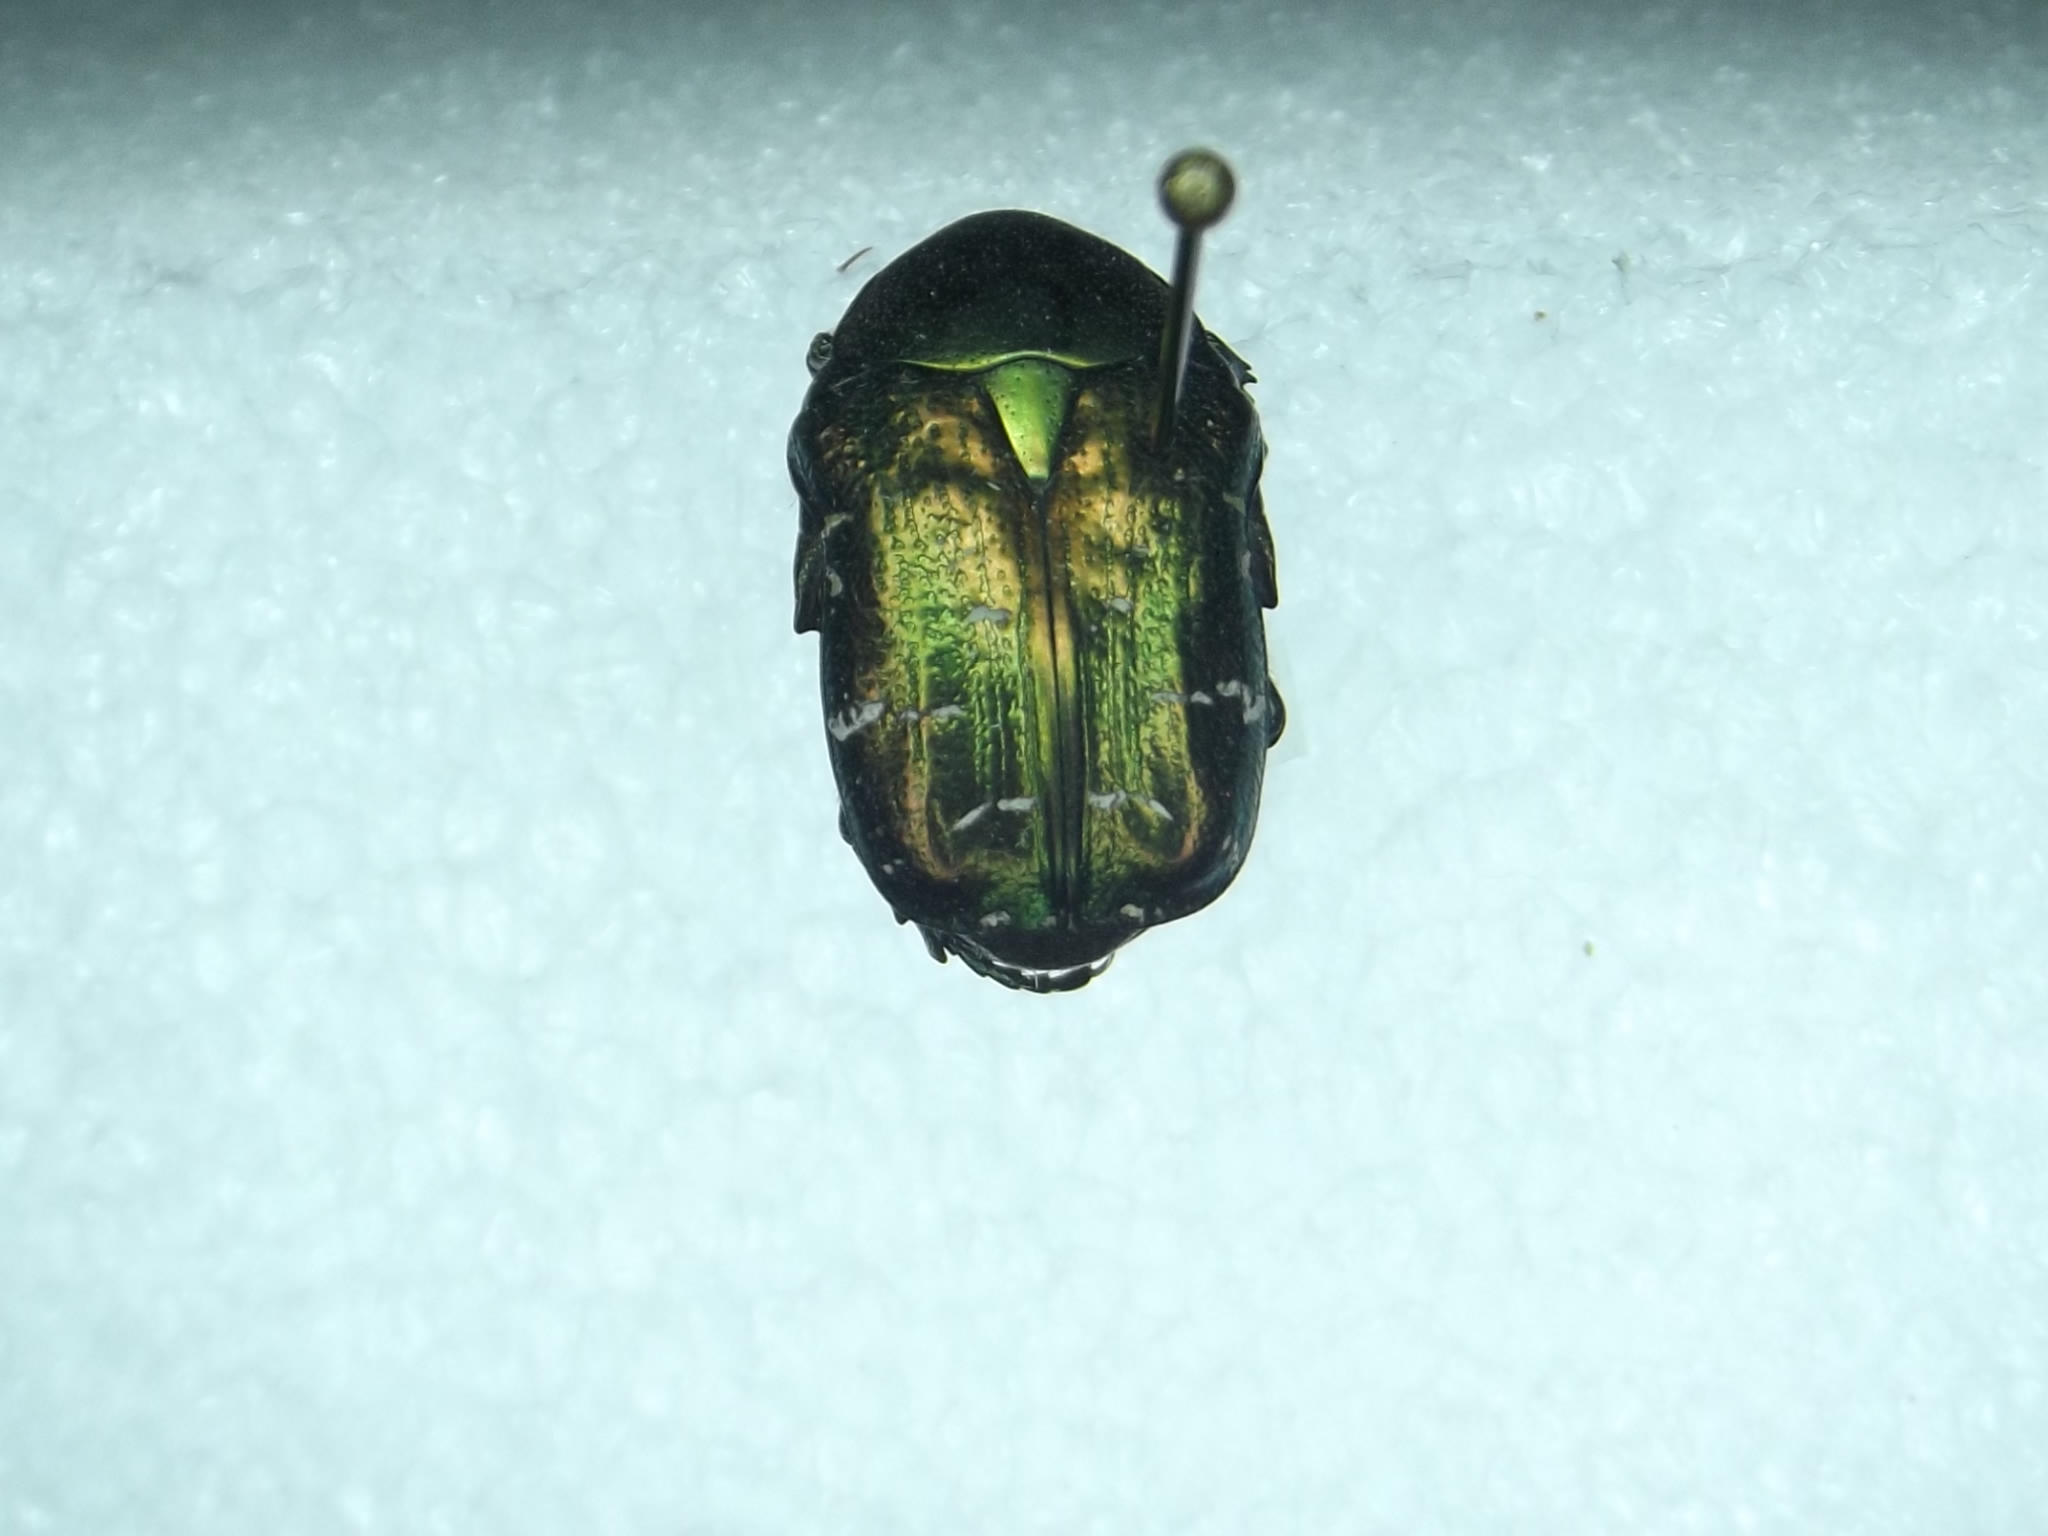Cetonia_kemali: (758, 177, 1297, 1004)
